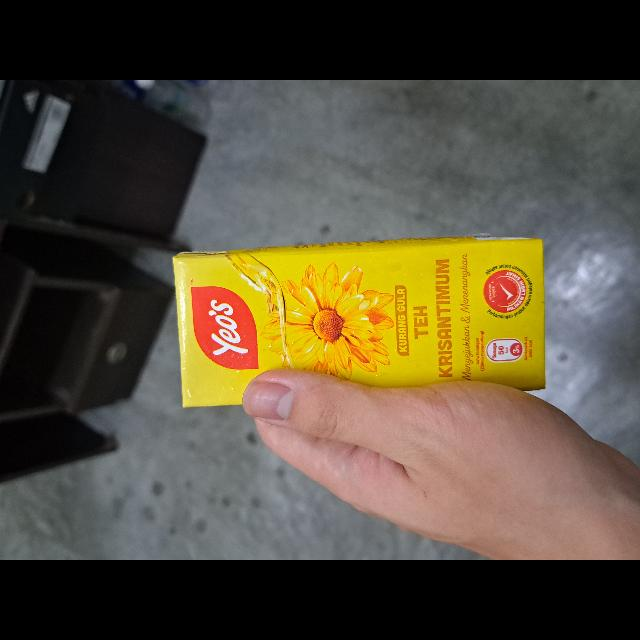caixinha: (176, 237, 544, 408)
